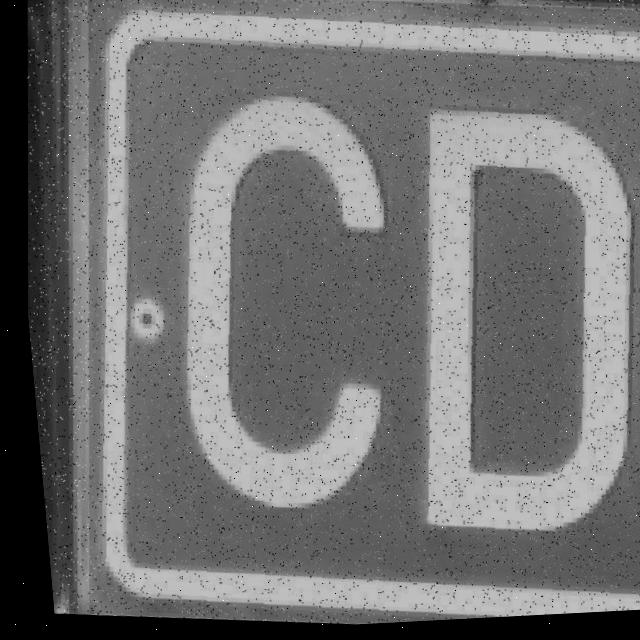LicensePlate: (34, 0, 640, 639)
